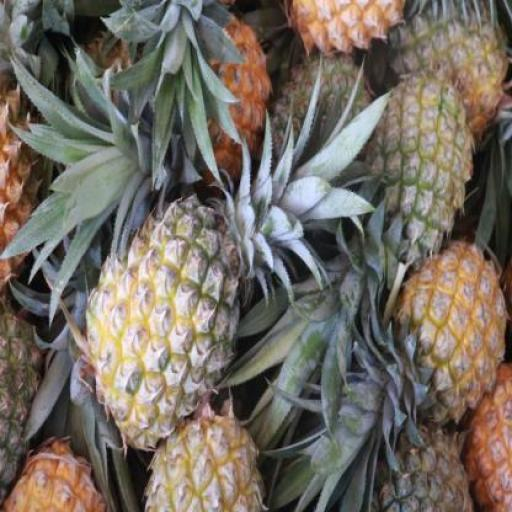------------------------------: (87, 196, 240, 443), (368, 70, 468, 265), (144, 408, 265, 510)
Pineapple - v8 v1: (396, 240, 502, 423), (0, 48, 41, 300)
